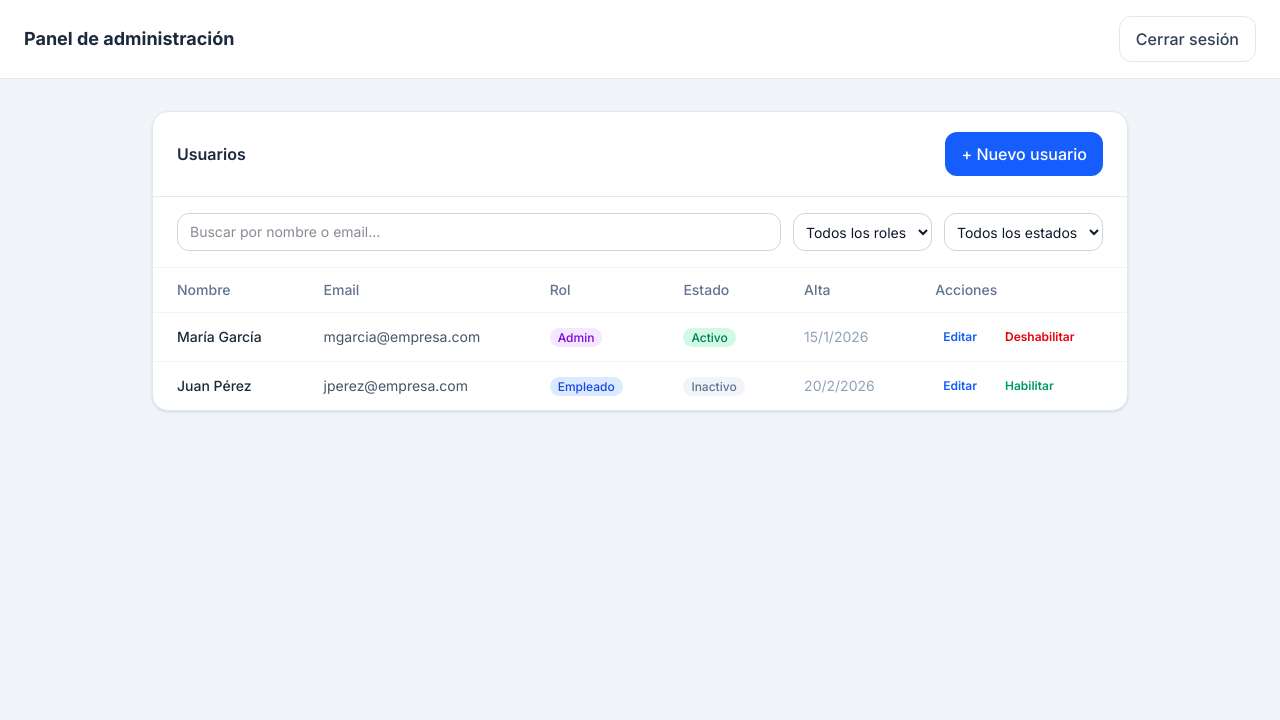
it: Admin › shows an error when toggling status fails
expect the text "María García" is shown: met, box 153,312 -> 300,362
Click the button "Deshabilitar".
click(1040, 337)  # box 997,325 -> 1082,349
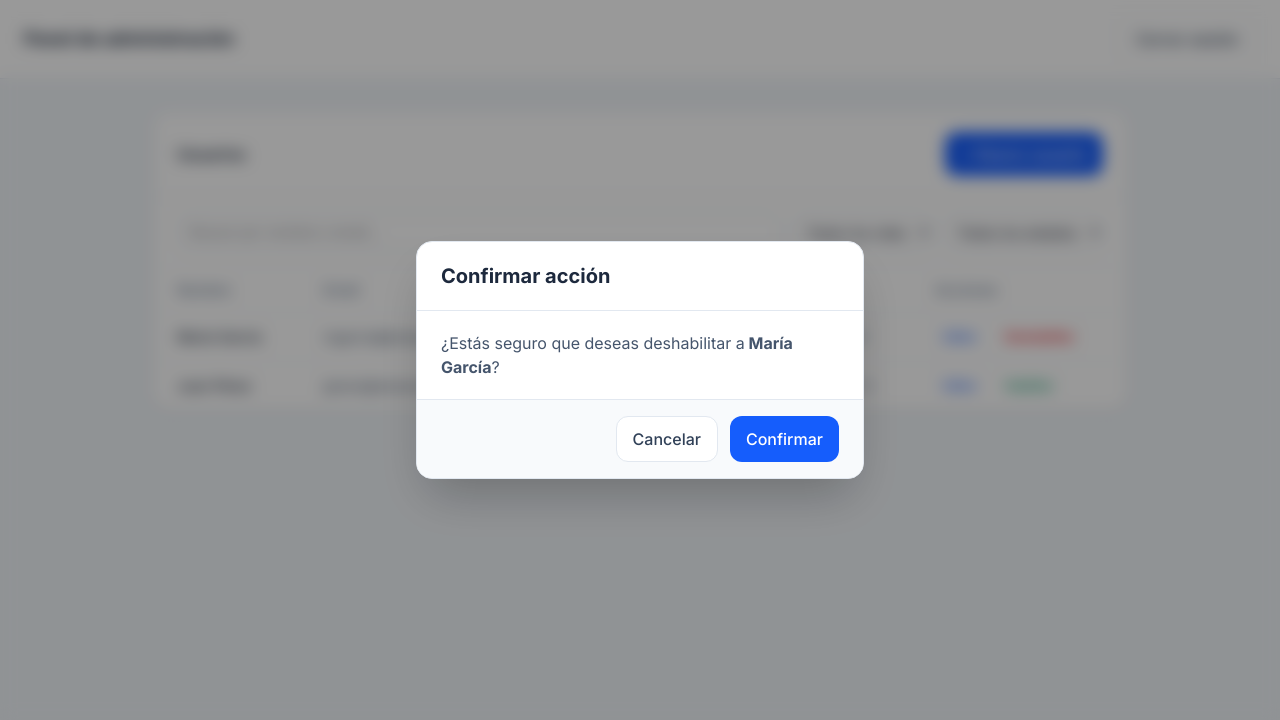
Click the button "Confirmar".
click(784, 439)  # box 730,416 -> 839,462
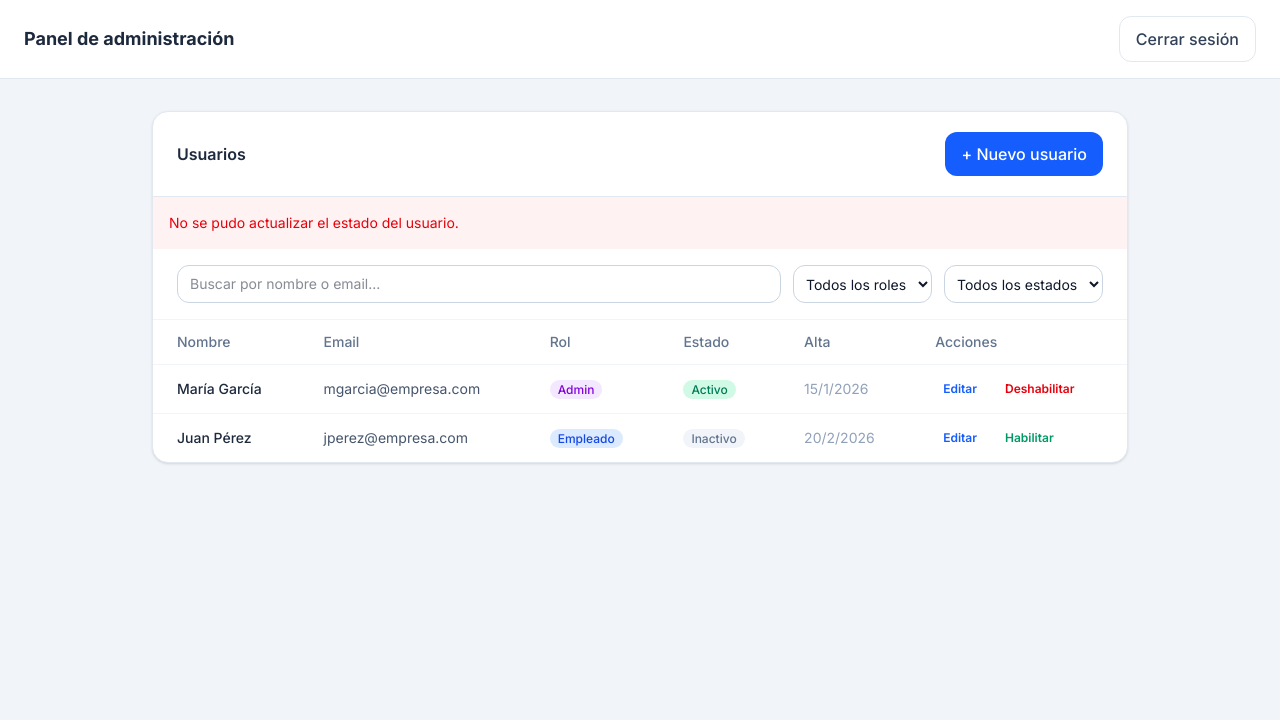
expect the text "No se pudo actualizar el estado del usuario." is shown: met, box 153,197 -> 1127,249
